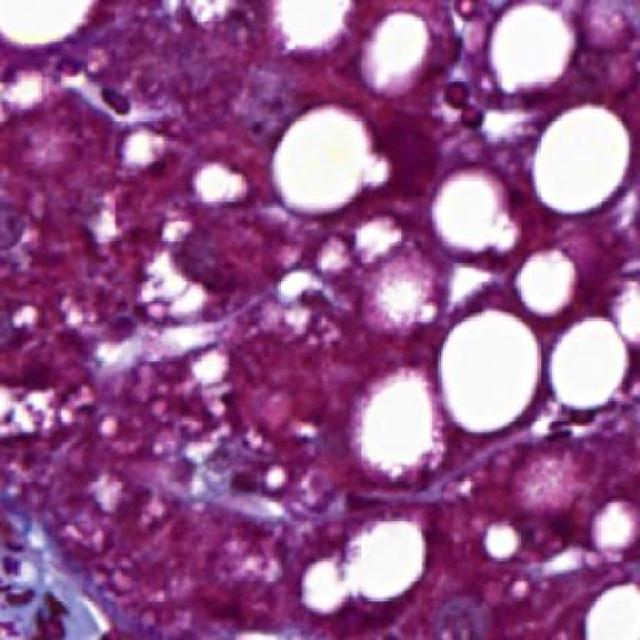inflammation: (81, 77, 156, 130), (438, 66, 489, 115)
